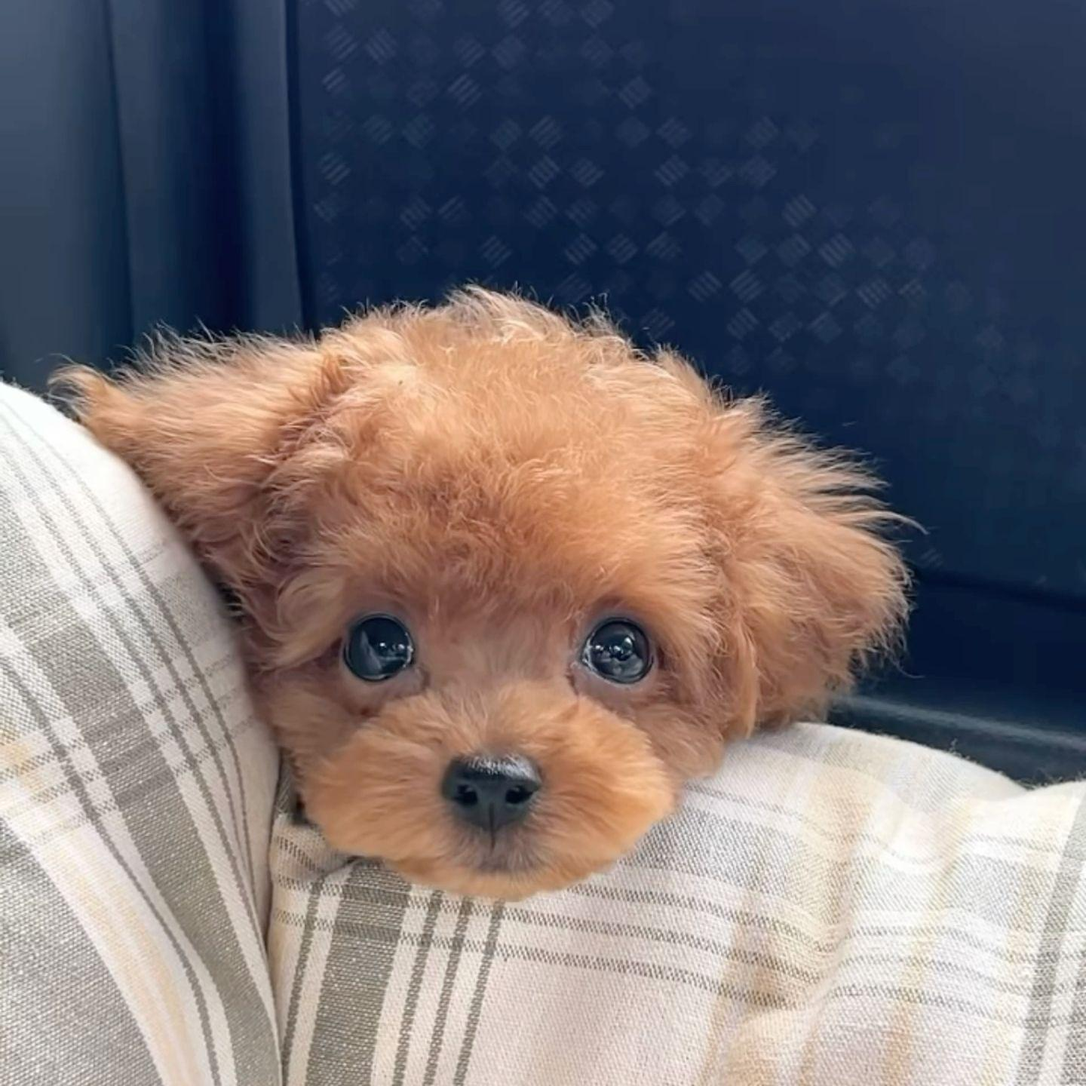puppy-dog: (52, 281, 922, 908)
